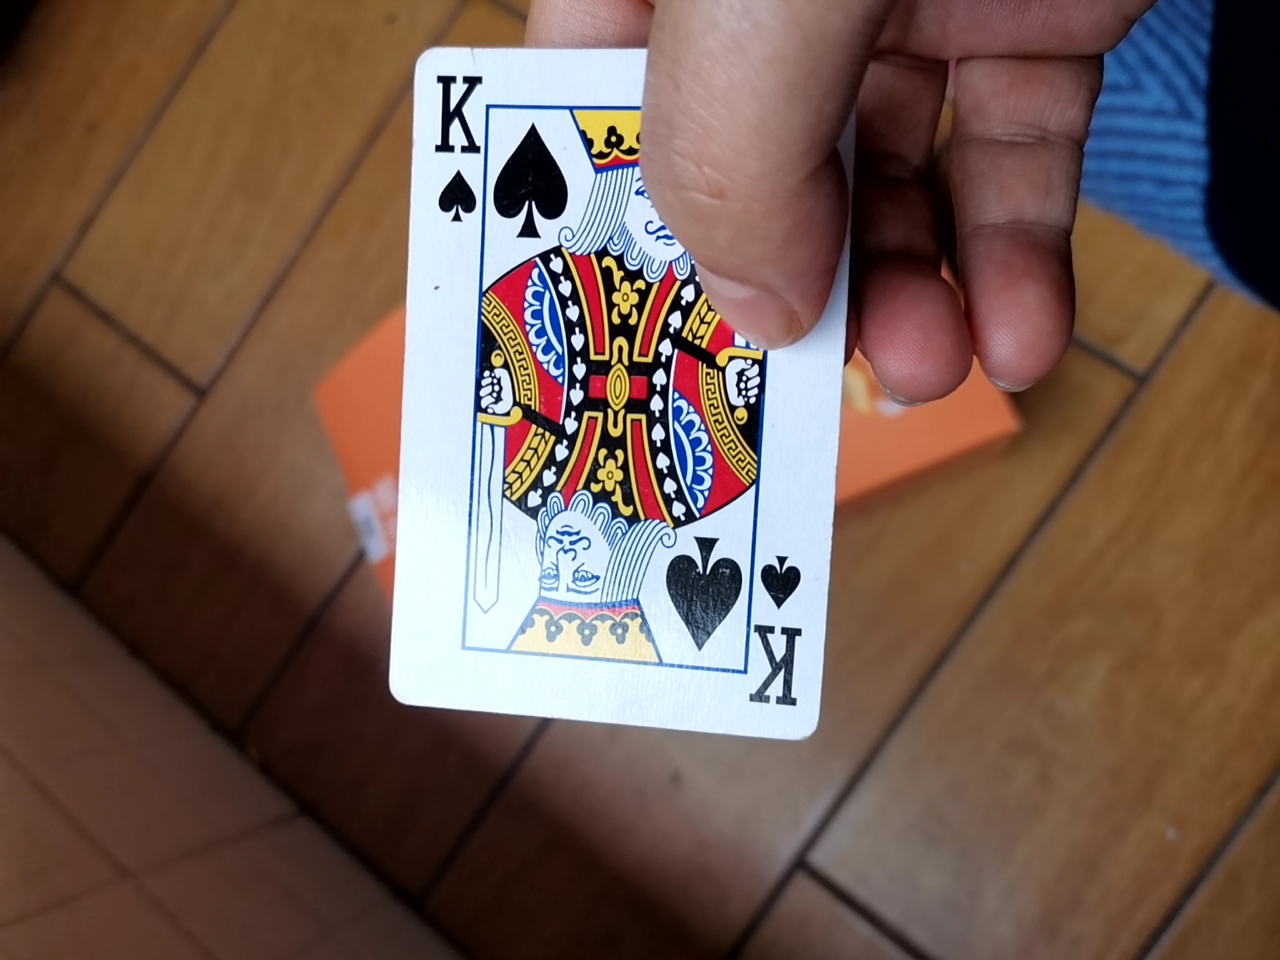ht k: (378, 39, 855, 762)
